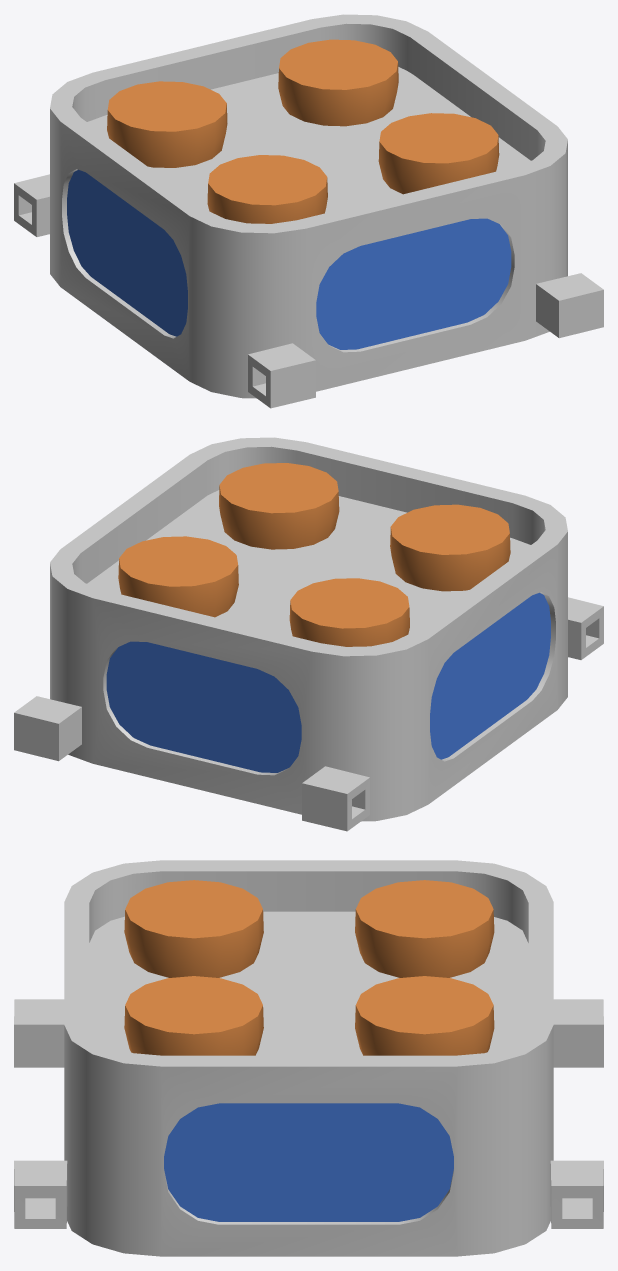
3 views of the same model, one above another, from view 1: azimuth 30°, elevation 25°; view 2: azimuth 150°, elevation 25°; view 3: azimuth 270°, elevation 25° (orthographic). The views are drawn at different scales.
Visible parts, largest first — view 1: Cube.043; view 2: Cube.043; view 3: Cube.043.
Boxes of the visible parts, bbox=[...] form: Cube.043: bbox=[14, 14, 603, 408]; Cube.043: bbox=[14, 437, 603, 831]; Cube.043: bbox=[14, 860, 603, 1256].
Bounding box in the file's own units: 13.38 × 5.85 × 16.19.
